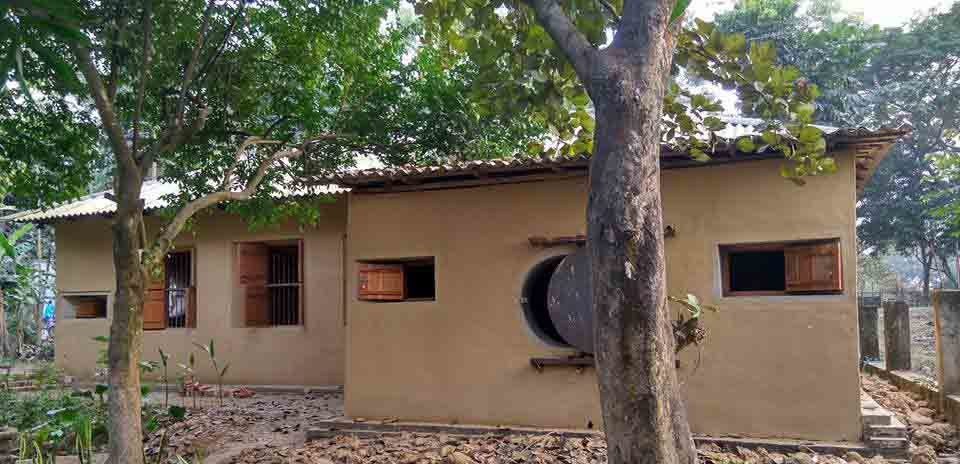Mud House: (35, 74, 906, 449)
